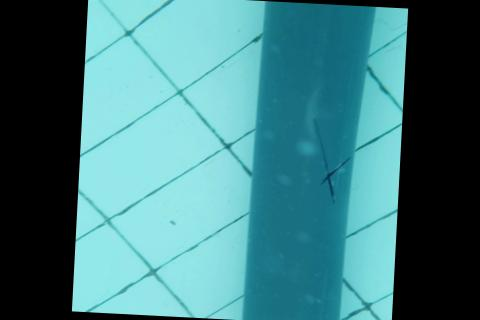keretakan: (306, 117, 354, 203)
